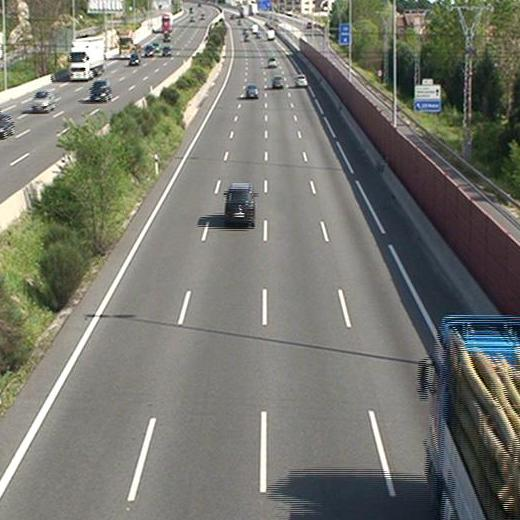car: (225, 183, 255, 224), (245, 84, 257, 98), (295, 74, 307, 87), (272, 76, 283, 88), (267, 56, 276, 67)
